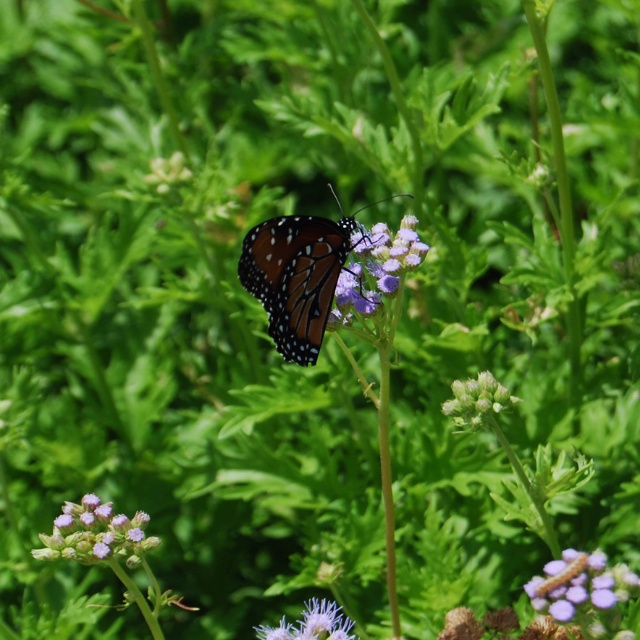Butterfly: (236, 183, 415, 364)
